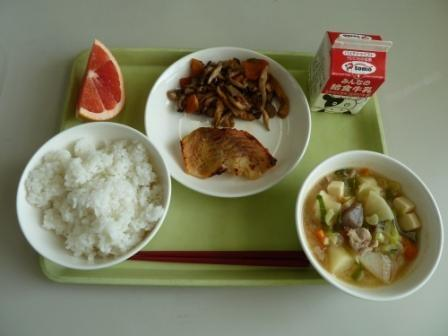Citrus: (70, 40, 127, 116)
Fish: (173, 120, 275, 191)
Milk: (306, 27, 410, 116)
Rice: (15, 120, 170, 258)
Soups: (291, 157, 436, 289)
vegetable based cooked food: (178, 55, 291, 122)
